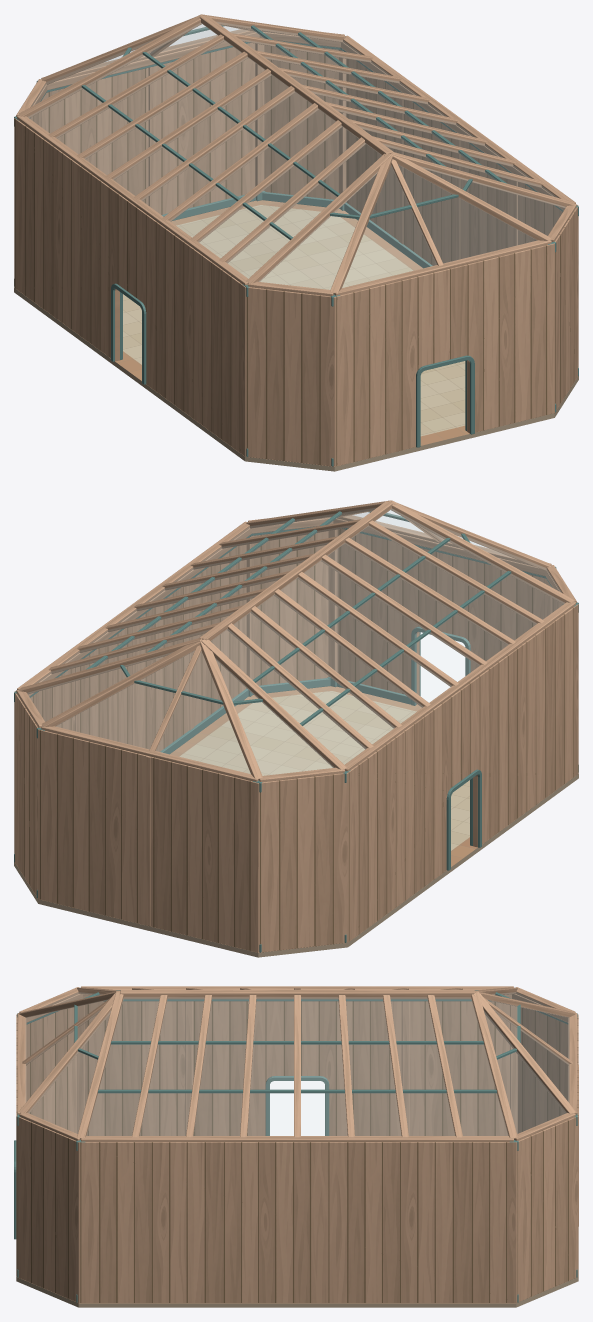
Rendered from Spark_Habitat_01.fbx.
The picture shows the model from 3 angles, top to bottom: view 1: azimuth 30°, elevation 25°; view 2: azimuth 150°, elevation 25°; view 3: azimuth 270°, elevation 25°; orthographic projection. The views are drawn at different scales.
Parts seen in each view (by area): view 1: Habitat_Structure, Habitat_Glass; view 2: Habitat_Structure, Habitat_Glass; view 3: Habitat_Structure, Habitat_Glass.
Boxes of the visible parts, x1,y1,x2,y2 form: Habitat_Structure: (14,14,578,471); Habitat_Glass: (28,22,565,289); Habitat_Structure: (14,500,578,957); Habitat_Glass: (27,508,564,775); Habitat_Structure: (14,986,578,1307); Habitat_Glass: (26,992,568,1135).
Size of the model in its own units: 18.68 by 13.4 by 28.7.
